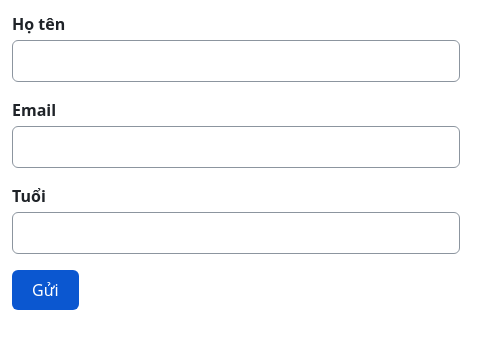
SimpleForm › sửa lại cho đúng → lỗi biến mất ngay trong cùng lần gõ
Type "an@" into the field labelled "Email" at (236, 147), box [12,126,460,168]
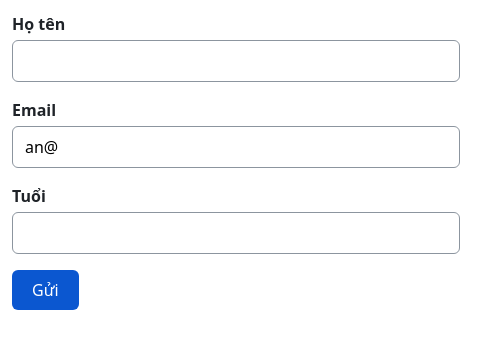
Leave the field labelled "Email", box [12,126,460,168]
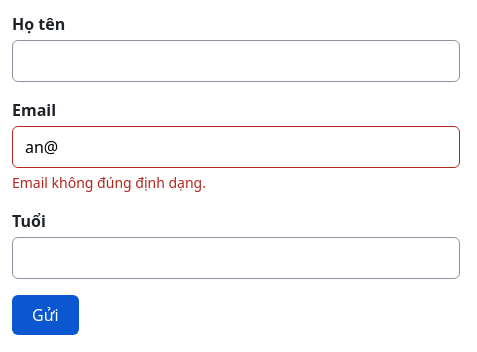
Replace the text in the field labelled "Email" with "an@example.com" at (236, 147), box [12,126,460,168]
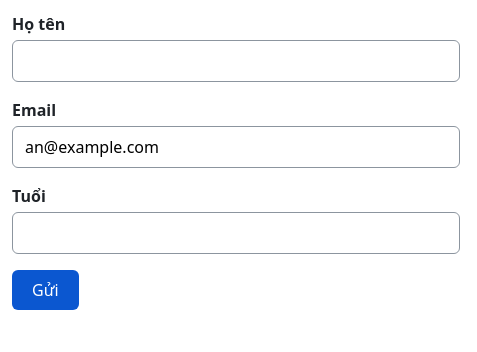
Expected: the message "Email không đúng định dạng." is gone
